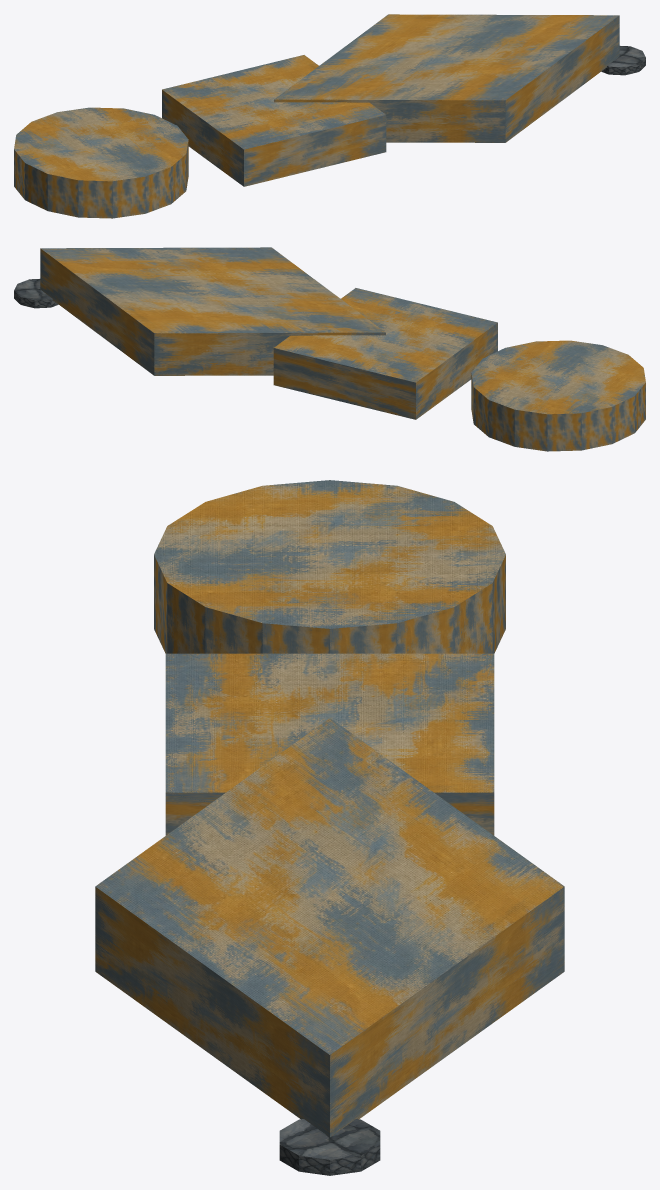
Rendered from PRP_RAVINE_GUIDE_MARKERS_001.obj.
3 views of the same model, one above another, from view 1: azimuth 30°, elevation 25°; view 2: azimuth 150°, elevation 25°; view 3: azimuth 270°, elevation 25° (orthographic). The views are drawn at different scales.
Visible parts, largest first — view 1: Marker_3_Diamond, Marker_2_Square, Marker_1_Circle, Marker_3_CenterDot; view 2: Marker_3_Diamond, Marker_2_Square, Marker_1_Circle, Marker_3_CenterDot; view 3: Marker_3_Diamond, Marker_1_Circle, Marker_2_Square, Marker_3_CenterDot.
Boxes of the visible parts, bbox=[...] form: Marker_3_Diamond: bbox=[274, 14, 619, 142]; Marker_2_Square: bbox=[162, 55, 386, 186]; Marker_1_Circle: bbox=[14, 107, 188, 218]; Marker_3_CenterDot: bbox=[601, 46, 645, 75]; Marker_3_Diamond: bbox=[40, 247, 385, 375]; Marker_2_Square: bbox=[273, 288, 497, 419]; Marker_1_Circle: bbox=[471, 340, 645, 451]; Marker_3_CenterDot: bbox=[14, 279, 58, 308]; Marker_3_Diamond: bbox=[95, 718, 564, 1137]; Marker_1_Circle: bbox=[154, 480, 505, 653]; Marker_2_Square: bbox=[165, 653, 494, 835]; Marker_3_CenterDot: bbox=[279, 1119, 380, 1175].
Bounding box in the file's own units: 1.22 × 0.0925 × 0.4.
Materials: 2 (2 with a texture image).
